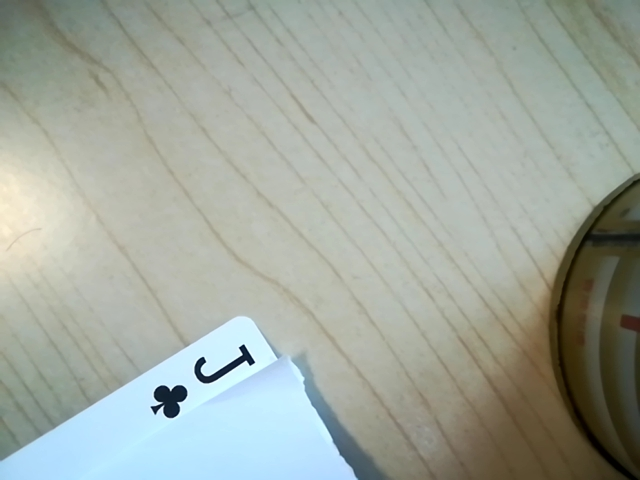mh j: (138, 338, 275, 421)
